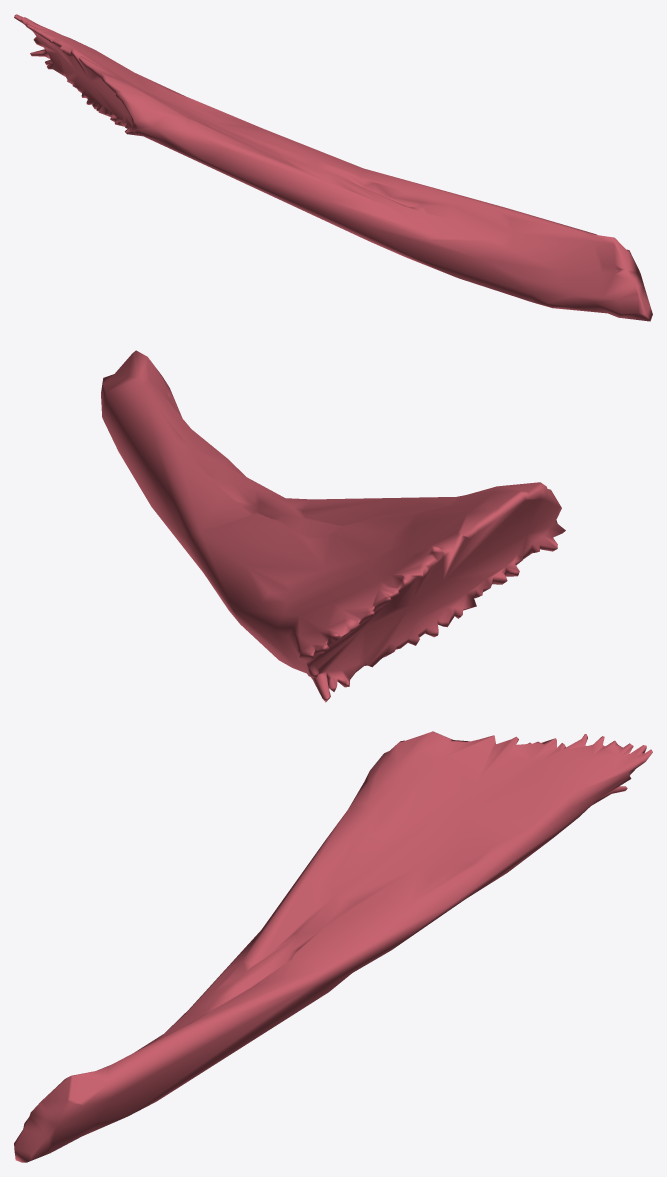
3 renders of one model, top to bottom at view 1: azimuth 30°, elevation 25°; view 2: azimuth 150°, elevation 25°; view 3: azimuth 270°, elevation 25°, orthographic. The views are drawn at different scales.
Parts seen in each view (by area): view 1: 右侧小收肌; view 2: 右侧小收肌; view 3: 右侧小收肌.
Boxes of the visible parts, x1,y1,x2,y2 form: 右侧小收肌: (14,14,652,321); 右侧小收肌: (101,350,565,702); 右侧小收肌: (14,731,652,1162).
Size of the model in its own units: 0.118 by 0.0609 by 0.1538.
